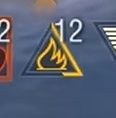1fire: (18, 44, 86, 77)
